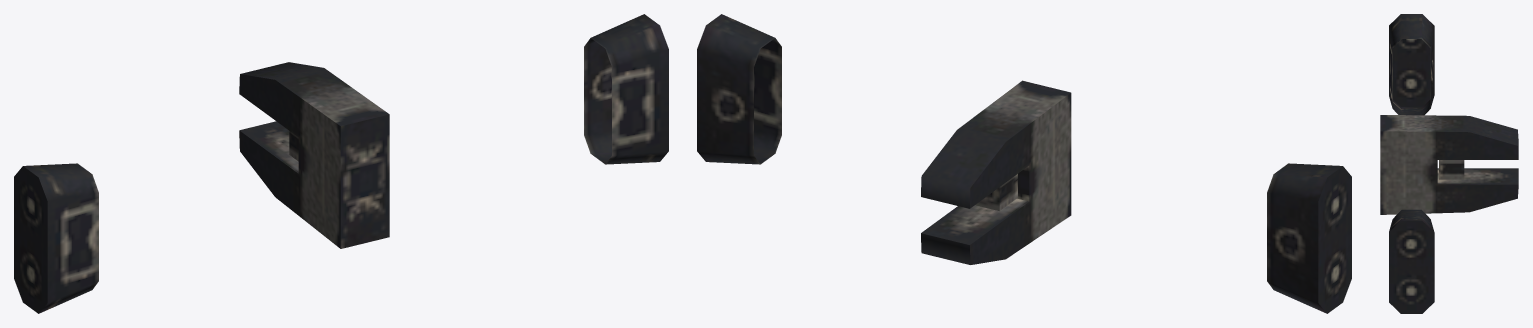
3 views of the same model, side by side, from view 1: azimuth 30°, elevation 25°; view 2: azimuth 150°, elevation 25°; view 3: azimuth 270°, elevation 25° (orthographic). The views are drawn at different scales.
Visible parts, largest first — view 1: set_0_group_0; view 2: set_0_group_0; view 3: set_0_group_0.
Boxes of the visible parts, x1,y1,x2,y2 form: set_0_group_0: [14, 14, 668, 313]; set_0_group_0: [697, 14, 1351, 313]; set_0_group_0: [1380, 14, 1518, 313].
Size of the model in its own units: 0.5795 by 0.122 by 0.164.
Materials: 1 (1 with a texture image).
